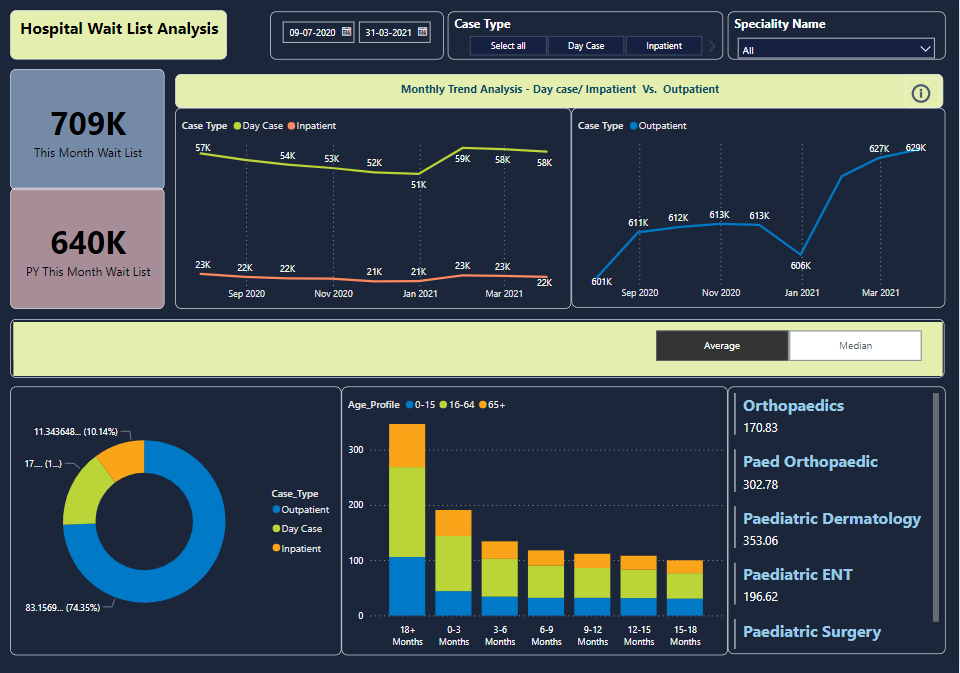

This screenshot's page, from the dashboard's own definition file:
{"tool":"powerbi","page":{"name":"Wait List Analysis","canvas":[1280,900],"ordinal":0},"visuals":[{"type":"textbox","box":[235.7,100,1024.3,45.7],"z":0},{"type":"shape","box":[15.7,426,1245.7,78.6],"z":1000},{"type":"card","fields":{"Values":["All Measures.Latest Month Wish List"]},"box":[15.7,92.9,205.7,161.4],"z":2000},{"type":"card","fields":{"Values":["All Measures.Prior Year Wait List"]},"box":[15.7,252,205.7,161.4],"z":3000},{"type":"slicer","fields":{"Values":["Calculation Method.Calculation Method"]},"box":[850,435.7,404.3,54.3],"z":4000},{"type":"columnChart","title":"Wait List Analysis - Time Band Vs. Age Profile","fields":{"Category":["All_Data.Time_Bands"],"Y":["All Measures.Avg/Median Selection"],"Series":["All_Data.Age_Profile"]},"box":[456.7,516.7,515,358.3],"z":6000},{"type":"multiRowCard","title":"Top 5 Wait List by Speciality","fields":{"Values":["All_Data.Speciality_Name","All Measures.Avg/Median Selection"]},"box":[971.7,516.7,290,356.7],"z":7000},{"type":"lineChart","fields":{"Category":["All_Data.Archive_Date"],"Y":["Sum(All_Data.Total)"],"Series":["All_Data.Case_Type"]},"box":[235,145,528.3,268.3],"z":8000},{"type":"lineChart","fields":{"Category":["All_Data.Archive_Date"],"Y":["Sum(All_Data.Total)"],"Series":["All_Data.Case_Type"]},"box":[763.3,145,498.3,266.7],"z":9000},{"type":"slicer","title":"Date Range","fields":{"Values":["All_Data.Archive_Date"]},"box":[361.4,17.1,231.4,64.3],"z":10000},{"type":"slicer","title":"Case Type","fields":{"Values":["All_Data.Case_Type"]},"box":[598,17.1,367,64.3],"z":11000},{"type":"slicer","title":"Speciality Name","fields":{"Values":["All_Data.Specialty_Name"]},"box":[971.4,17.1,290,64.3],"z":12000},{"type":"textbox","box":[15.7,15.7,288.6,65.7],"z":13000},{"type":"actionButton","box":[1208.6,105.7,45.7,40],"z":14000},{"type":"donutChart","title":"Wait List Bifurcation by Case Type","fields":{"Y":["All Measures.Avg/Median Selection"],"Category":["All_Data.Case_Type"]},"box":[15,516.7,441.7,358.3],"z":14500}]}

Visuals, with their boxes in screenshot pixels (x1, y1, x2, y2), scaled from the page's 1280x900 canvas onto the 960x673 screenshot:
textbox: <bbox>177, 75, 945, 109</bbox>
shape: <bbox>12, 319, 946, 377</bbox>
card - All Measures.Latest Month Wish List: <bbox>12, 69, 166, 190</bbox>
card - All Measures.Prior Year Wait List: <bbox>12, 188, 166, 309</bbox>
slicer - Calculation Method.Calculation Method: <bbox>638, 326, 941, 366</bbox>
"Wait List Analysis - Time Band Vs. Age Profile" columnChart: <bbox>343, 386, 729, 654</bbox>
"Top 5 Wait List by Speciality" multiRowCard: <bbox>729, 386, 946, 653</bbox>
lineChart - All_Data.Archive_Date x Sum(All_Data.Total): <bbox>176, 108, 572, 309</bbox>
lineChart - All_Data.Archive_Date x Sum(All_Data.Total): <bbox>572, 108, 946, 308</bbox>
"Date Range" slicer: <bbox>271, 13, 445, 61</bbox>
"Case Type" slicer: <bbox>448, 13, 724, 61</bbox>
"Speciality Name" slicer: <bbox>729, 13, 946, 61</bbox>
textbox: <bbox>12, 12, 228, 61</bbox>
actionButton: <bbox>906, 79, 941, 109</bbox>
"Wait List Bifurcation by Case Type" donutChart: <bbox>11, 386, 343, 654</bbox>
